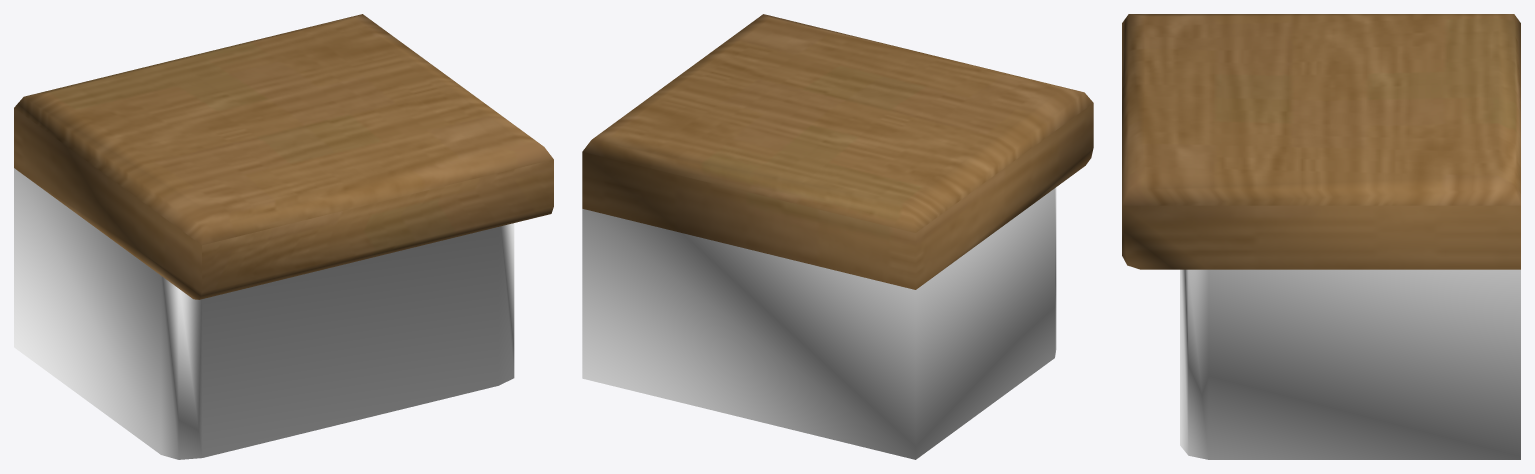
File: SM_Prop_Counter Small.fbx
The picture shows the model from 3 angles, left to right: view 1: azimuth 30°, elevation 25°; view 2: azimuth 150°, elevation 25°; view 3: azimuth 270°, elevation 25°; orthographic projection. The views are drawn at different scales.
Parts seen in each view (by area): view 1: SM_Prop_Counter Small; view 2: SM_Prop_Counter Small; view 3: SM_Prop_Counter Small.
Part boxes in pixels (x1=…): SM_Prop_Counter Small: x1=14, y1=14, x2=553, y2=459; SM_Prop_Counter Small: x1=582, y1=14, x2=1093, y2=459; SM_Prop_Counter Small: x1=1122, y1=14, x2=1520, y2=459.
Size of the model in its own units: 2.16 by 1.5 by 1.99.
